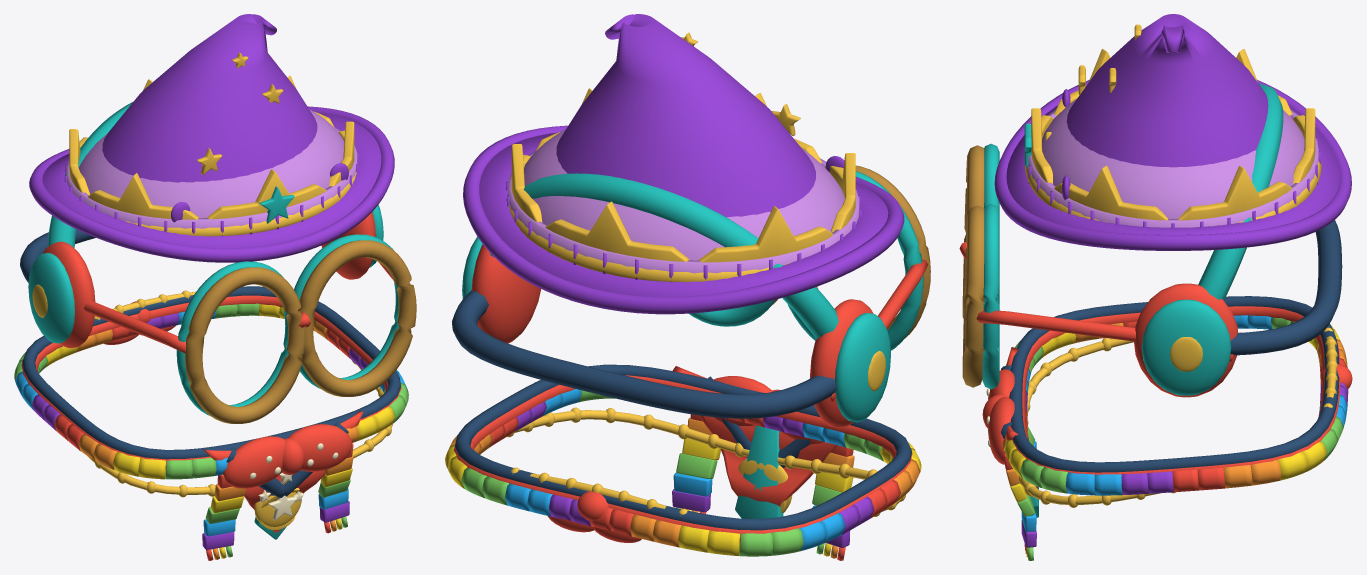
The model's file is moss-wearables.glb.
3 renders of one model, left to right at view 1: azimuth 30°, elevation 25°; view 2: azimuth 150°, elevation 25°; view 3: azimuth 270°, elevation 25°, orthographic. The views are drawn at different scales.
Parts seen in each view (by area): view 1: wizard_Wearables_violet, goggles_Wearables_brass, beanie_Wearables_lilac, medal_Wearables_navy, crown_Wearables_gold, bowtie_Wearables_coral, headphones_Wearables_teal, bandana_Wearables_coral, goggles_Wearables_teal, scarf_Wearables_yellow_yarn, headphones_Wearables_coral, scarf_Wearables_green (+11 smaller); view 2: wizard_Wearables_violet, beanie_Wearables_lilac, headphones_Wearables_teal, crown_Wearables_gold, goggles_Wearables_navy, medal_Wearables_navy, bandana_Wearables_coral, headphones_Wearables_coral, necklace_Wearables_gold, scarf_Wearables_green, scarf_Wearables_blue, scarf_Wearables_yellow_yarn (+10 smaller); view 3: wizard_Wearables_violet, beanie_Wearables_lilac, headphones_Wearables_teal, crown_Wearables_gold, medal_Wearables_navy, goggles_Wearables_brass, goggles_Wearables_navy, bandana_Wearables_coral, goggles_Wearables_teal, necklace_Wearables_gold, headphones_Wearables_coral, glasses_Wearables_coral (+10 smaller).
Boxes of the visible parts, x1,y1,x2,y2 form: wizard_Wearables_violet: [29, 14, 394, 262]; goggles_Wearables_brass: [184, 240, 416, 423]; beanie_Wearables_lilac: [66, 109, 357, 228]; medal_Wearables_navy: [22, 286, 401, 498]; crown_Wearables_gold: [69, 75, 356, 236]; bowtie_Wearables_coral: [223, 424, 352, 488]; headphones_Wearables_teal: [28, 102, 383, 343]; bandana_Wearables_coral: [21, 295, 401, 532]; goggles_Wearables_teal: [176, 234, 408, 415]; scarf_Wearables_yellow_yarn: [45, 304, 395, 558]; headphones_Wearables_coral: [43, 212, 375, 348]; scarf_Wearables_green: [14, 303, 408, 557]; wizard_Wearables_violet: [463, 14, 904, 314]; beanie_Wearables_lilac: [508, 129, 859, 273]; headphones_Wearables_teal: [462, 173, 890, 422]; crown_Wearables_gold: [509, 88, 855, 282]; goggles_Wearables_navy: [452, 290, 836, 418]; medal_Wearables_navy: [454, 364, 911, 530]; bandana_Wearables_coral: [453, 366, 912, 543]; headphones_Wearables_coral: [471, 244, 873, 427]; necklace_Wearables_gold: [507, 407, 905, 516]; scarf_Wearables_green: [461, 390, 883, 556]; scarf_Wearables_blue: [505, 389, 846, 550]; scarf_Wearables_yellow_yarn: [445, 438, 921, 556]; wizard_Wearables_violet: [994, 14, 1351, 250]; beanie_Wearables_lilac: [1028, 99, 1318, 227]; headphones_Wearables_teal: [1141, 83, 1283, 395]; crown_Wearables_gold: [1025, 49, 1321, 222]; medal_Wearables_navy: [1001, 296, 1339, 472]; goggles_Wearables_brass: [962, 145, 984, 387]; goggles_Wearables_navy: [1230, 220, 1342, 355]; bandana_Wearables_coral: [1006, 306, 1352, 488]; goggles_Wearables_teal: [982, 143, 999, 389]; necklace_Wearables_gold: [1018, 327, 1337, 507]; headphones_Wearables_coral: [1134, 283, 1238, 397]; glasses_Wearables_coral: [959, 242, 1233, 361].
Size of the model in its own units: 3.28 by 4.37 by 2.98.
